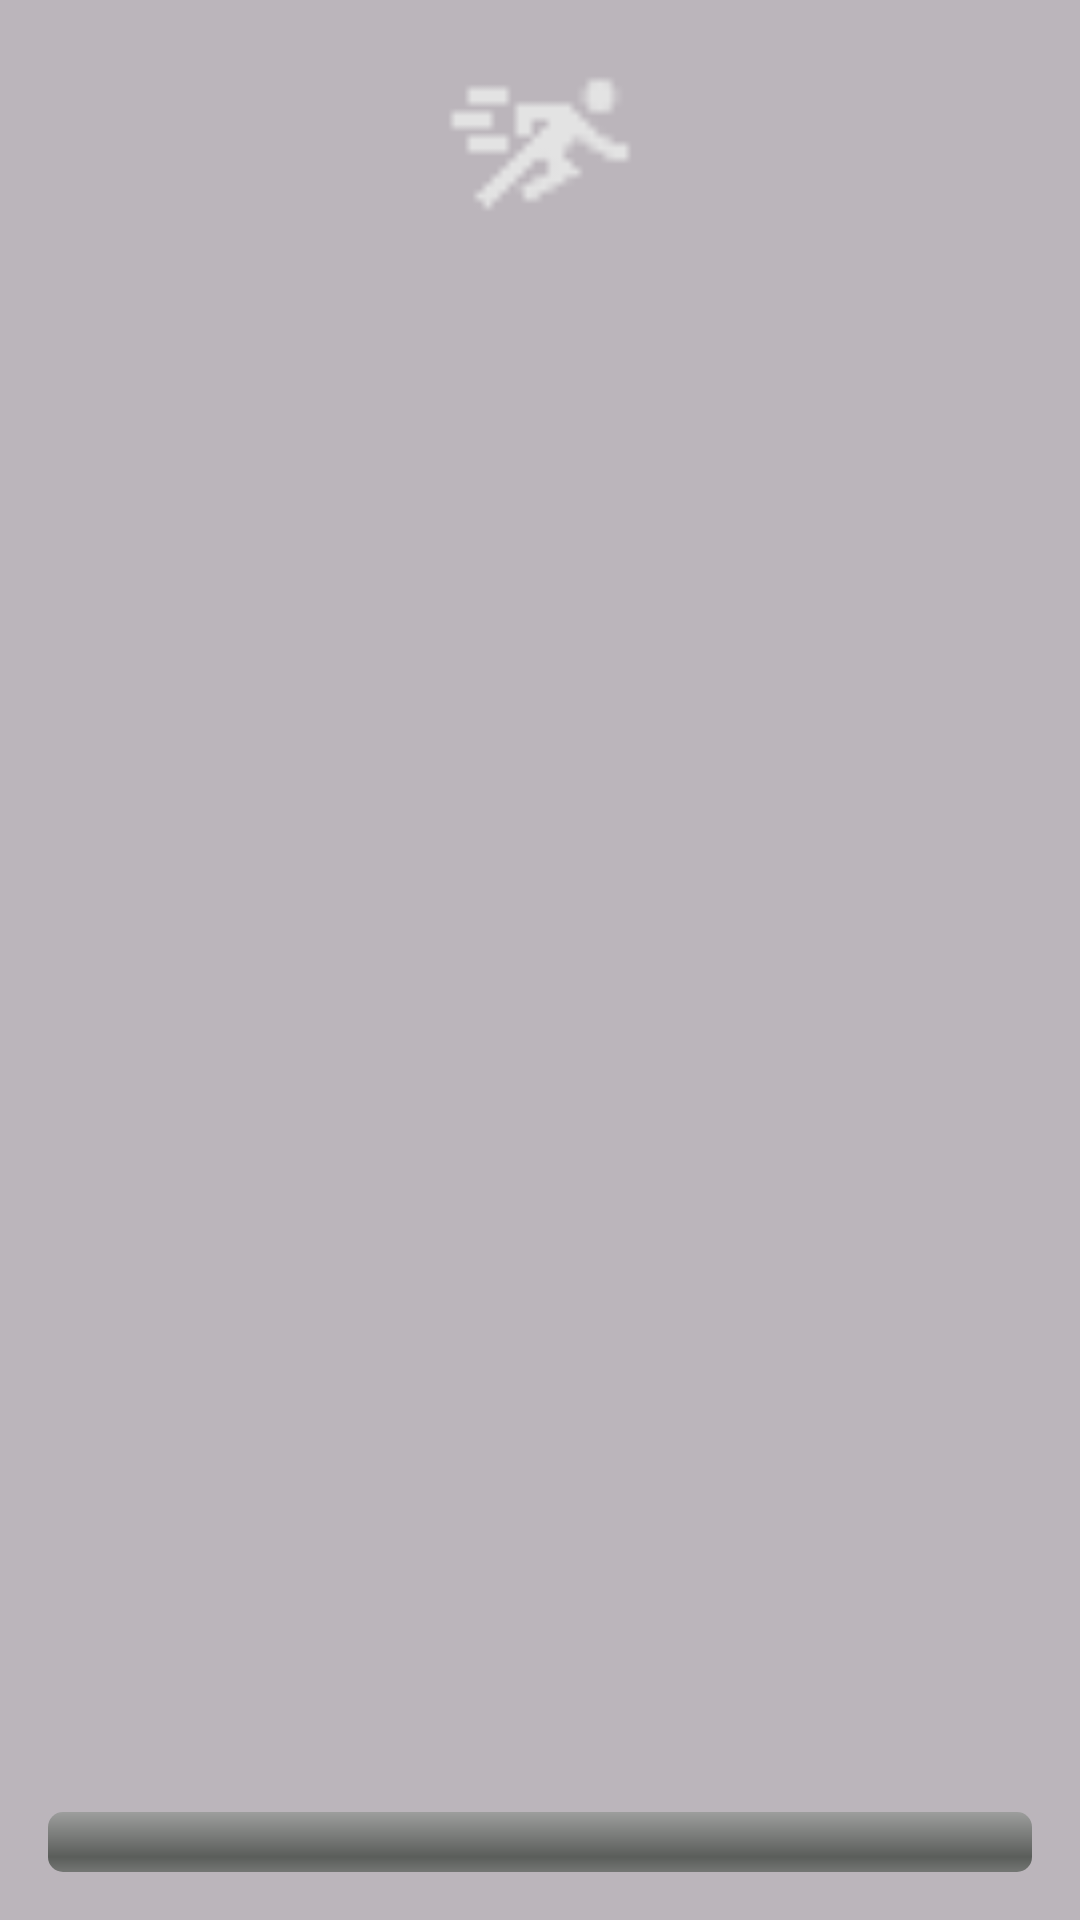

Where icons sit on this 1080w x 1920h app screen, as bbox=(x1, y1, x2, y2):
run: bbox=(452, 80, 628, 207)
